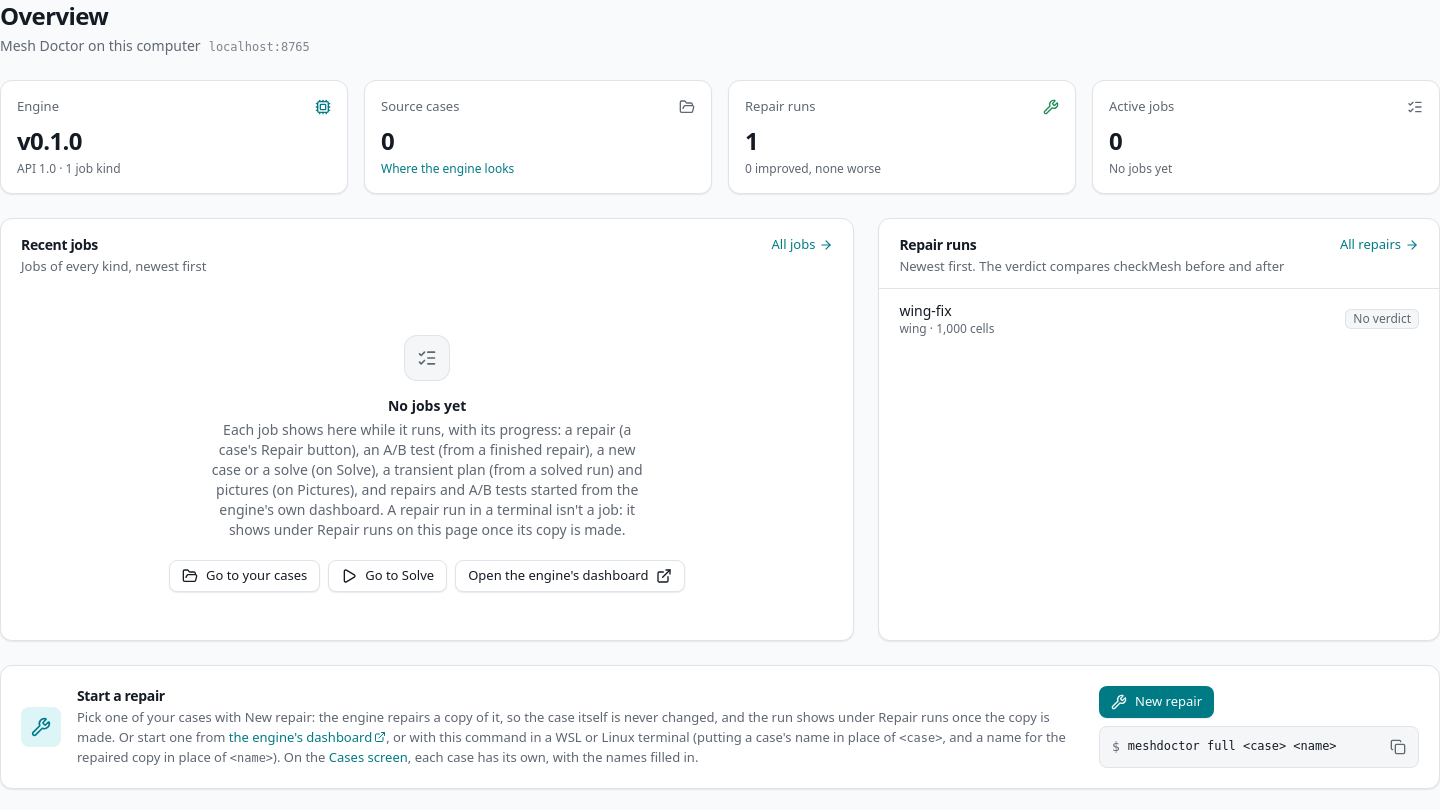
Test: the Overview once something has run › says how to start a repair: from the engine's dashboard, linked in a new tab, or with the command
Expected: the text "wing-fix" is shown, [899, 301, 952, 320]
Expected: the number of buttons named "Copy “meshdoctor full <case> <name>”" is 1, [1384, 733, 1412, 761]
// ...and starts one here: New repair opens the repair dialog.
Step 1. Click the button "New repair" → x=1156, y=702, box [1099, 686, 1214, 718]
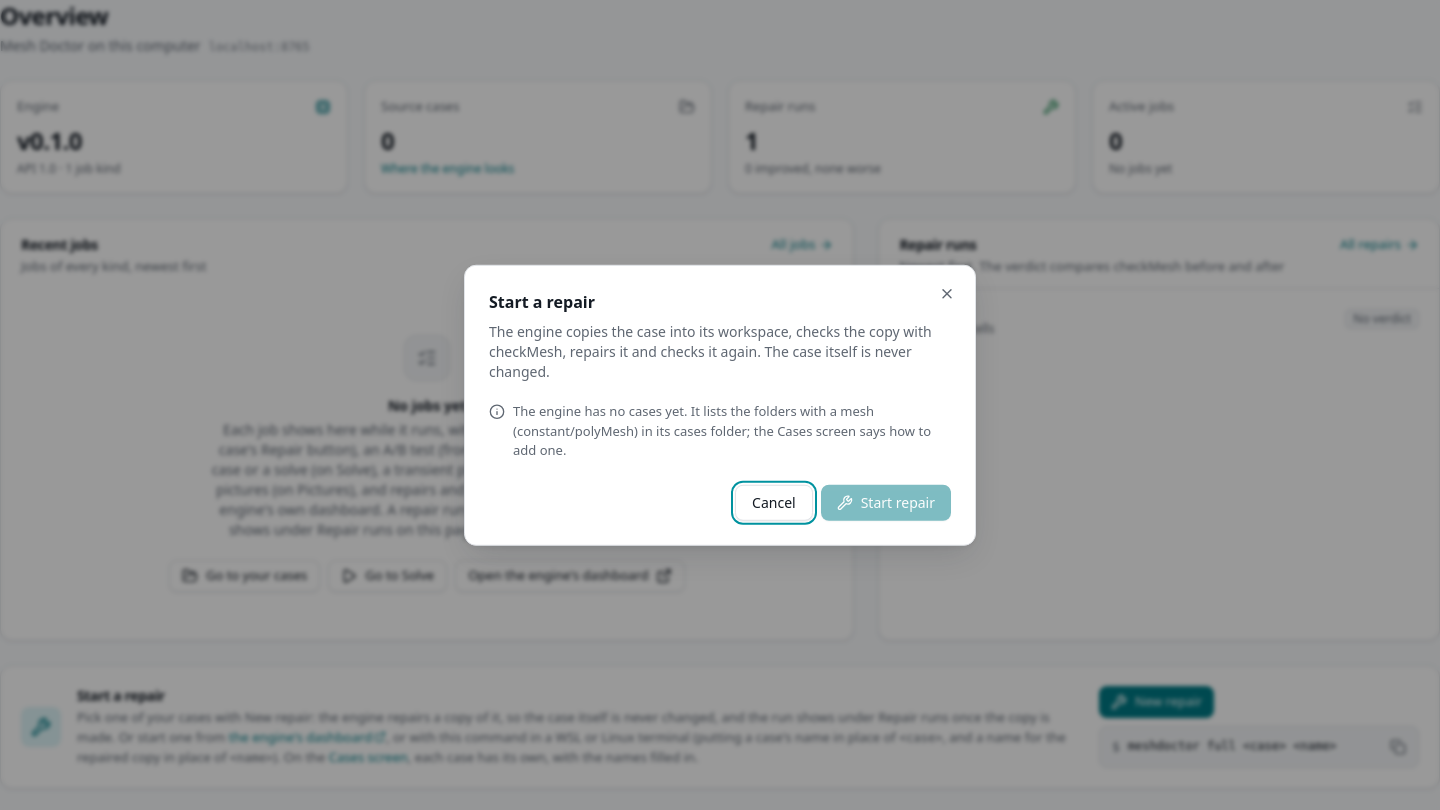
Expected: the text "0 improved, none worse" is shown, [745, 160, 881, 177]
Now the heading "Start a repair" is shown, box [489, 291, 595, 313]
